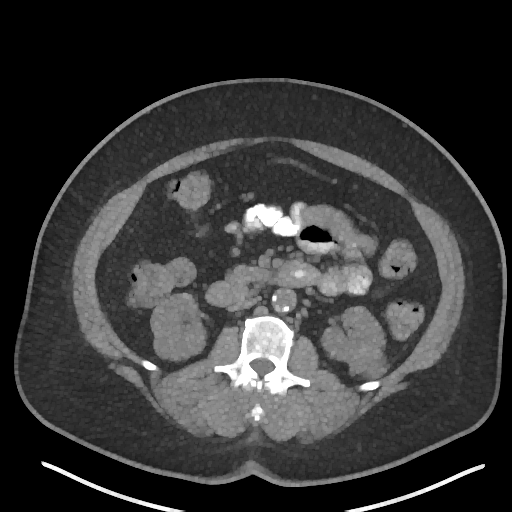Lesion: (342, 344, 390, 380)
